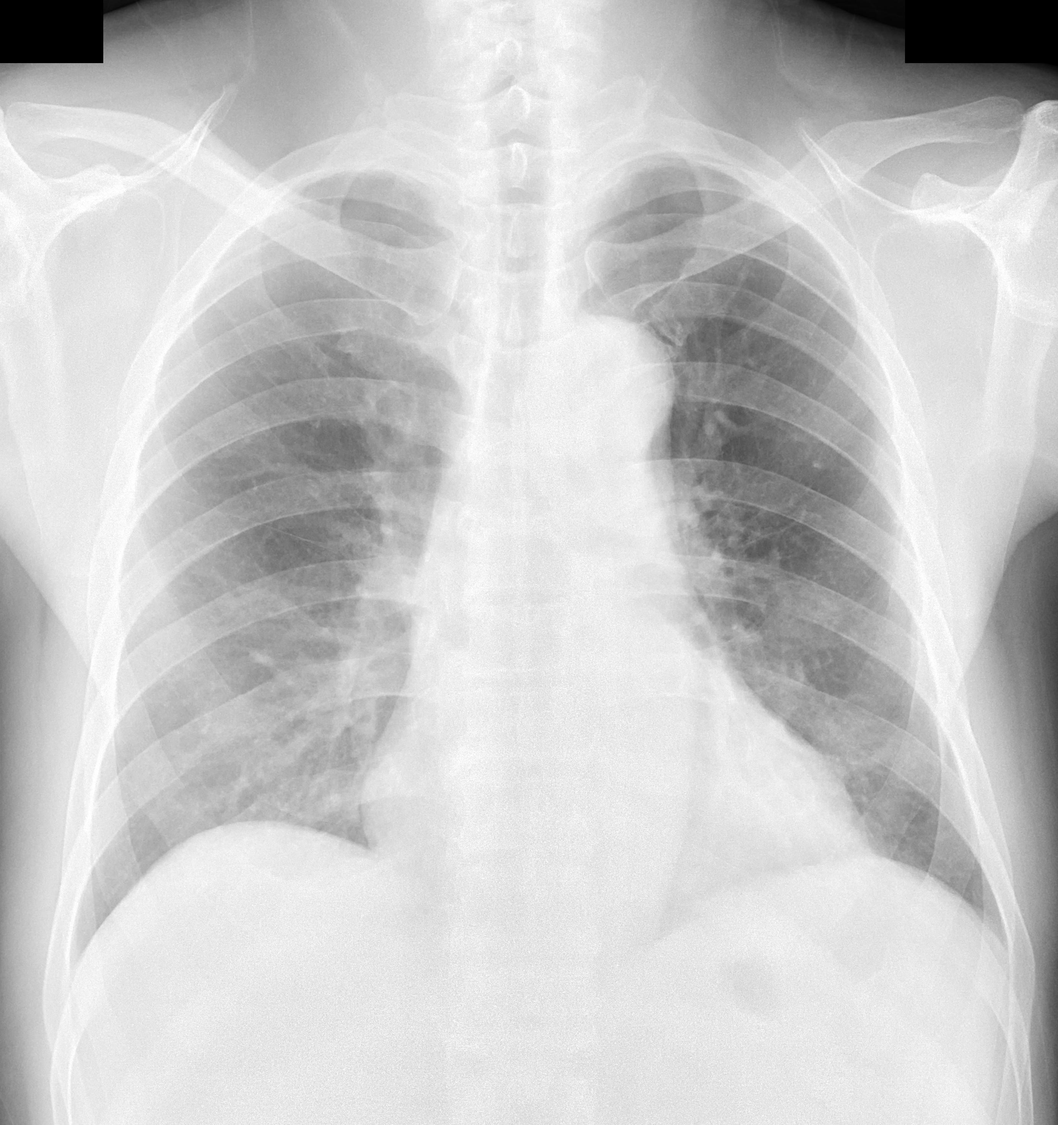Aortic enlargement: (523, 309, 680, 452)
Cardiomegaly: (345, 733, 881, 915)
Pleural thickening: (296, 155, 440, 197), (594, 143, 721, 182)
